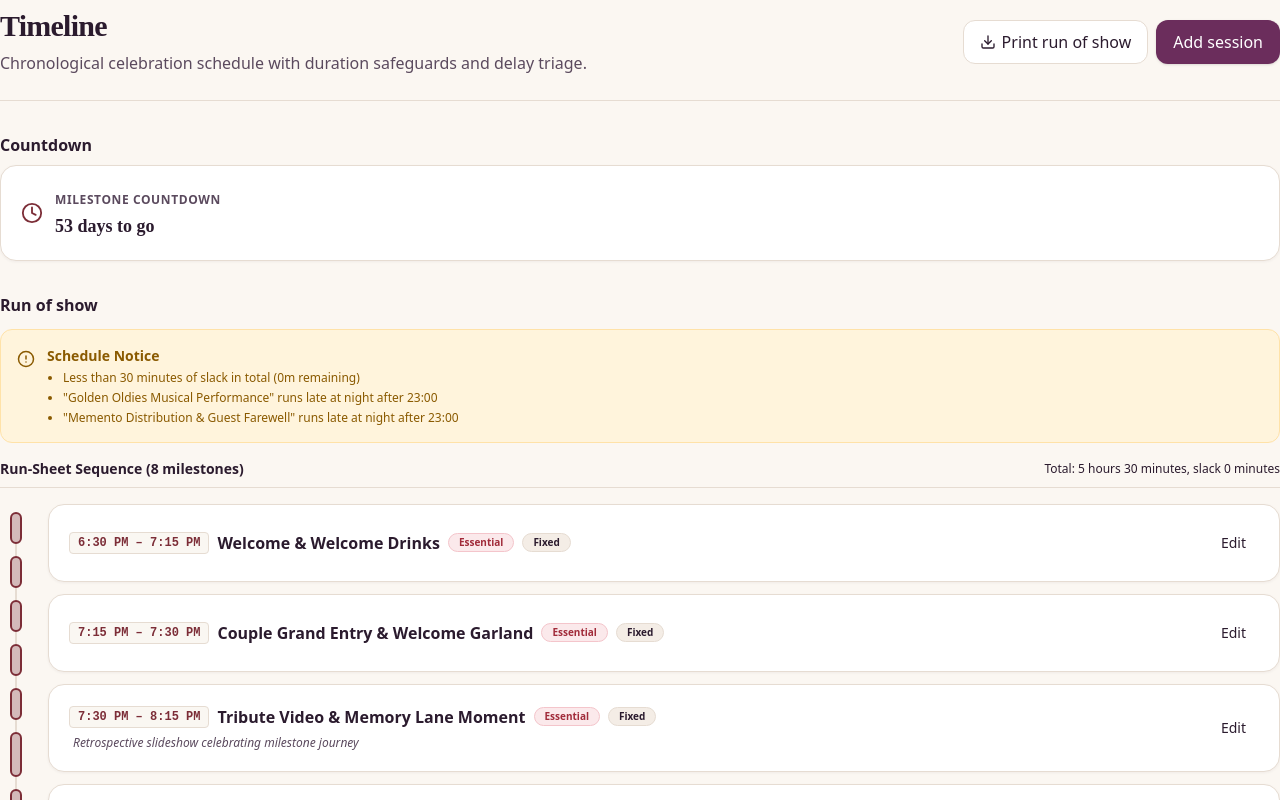
Test: UI: Timeline Page & Interactions (TASK 4) › rejects adding a slot at 23:30 for 60 minutes inline without saving
// Open Add session dialog
Click the button "Add session" at (1218, 42), box 1156,20 -> 1279,64
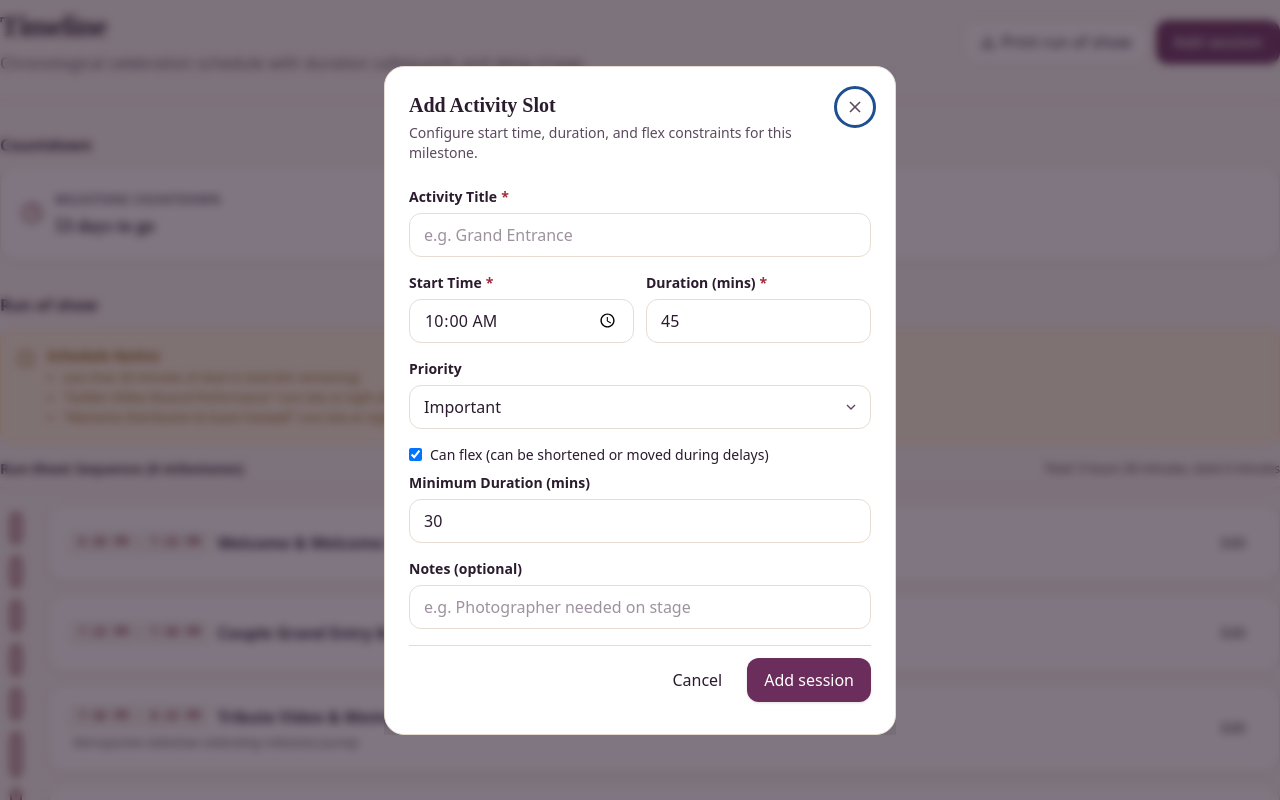
expect the dialog "Add Activity Slot" is shown: met, box 384,66 -> 896,734
// Fill in title
Type "Late Night Dance" into the field labelled "Activity Title *" at (640, 234), box 409,212 -> 871,256
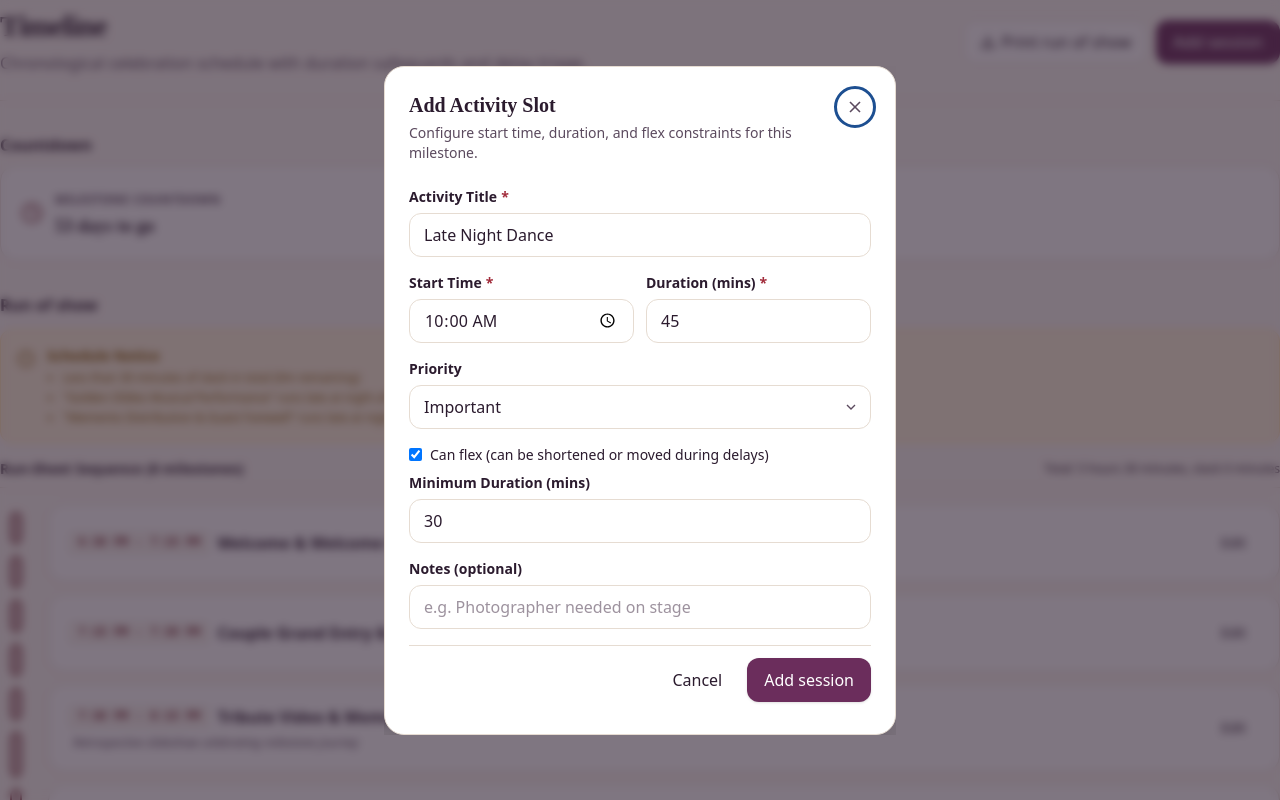
// Set time to 23:30
Replace the text in the time field named "Start Time" with "23:30" at (522, 320), box 409,298 -> 634,342
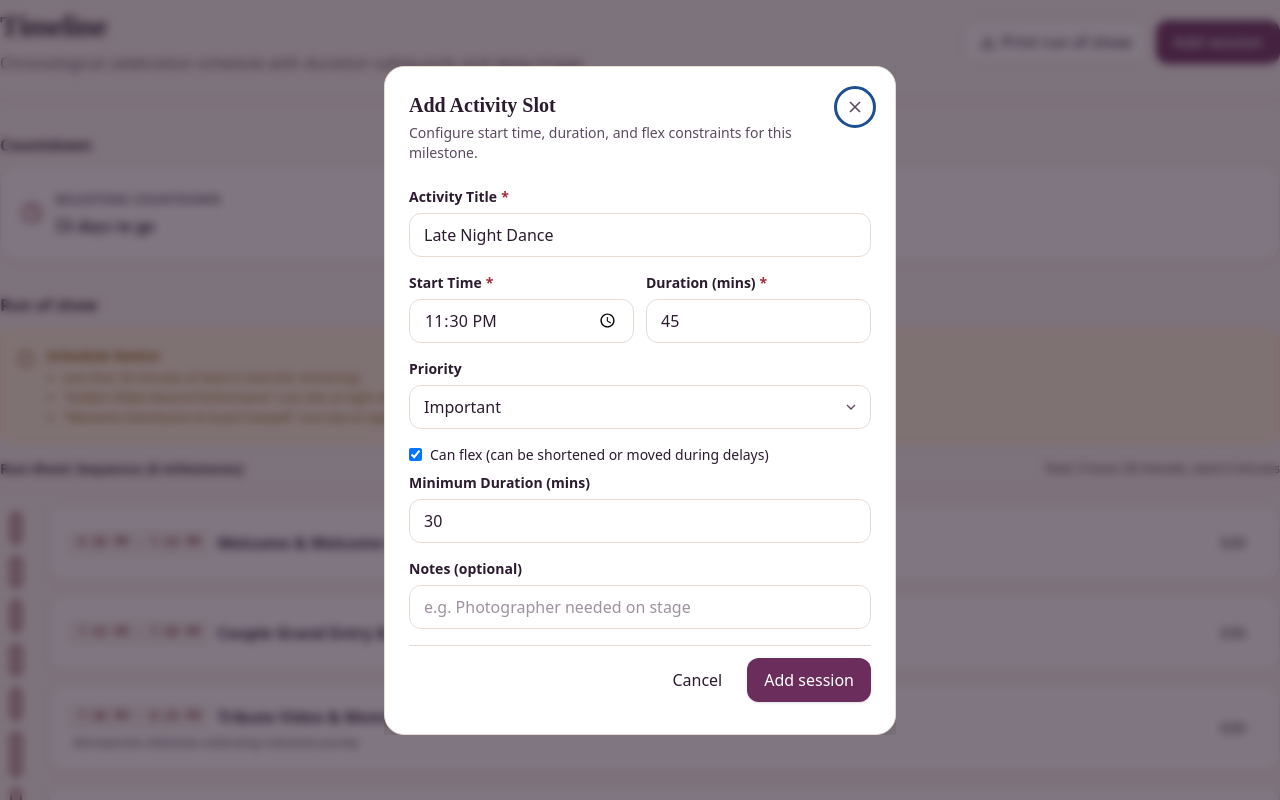
Replace the text in the number field labelled "Duration (mins) *" with "60" at (758, 320), box 646,298 -> 871,342
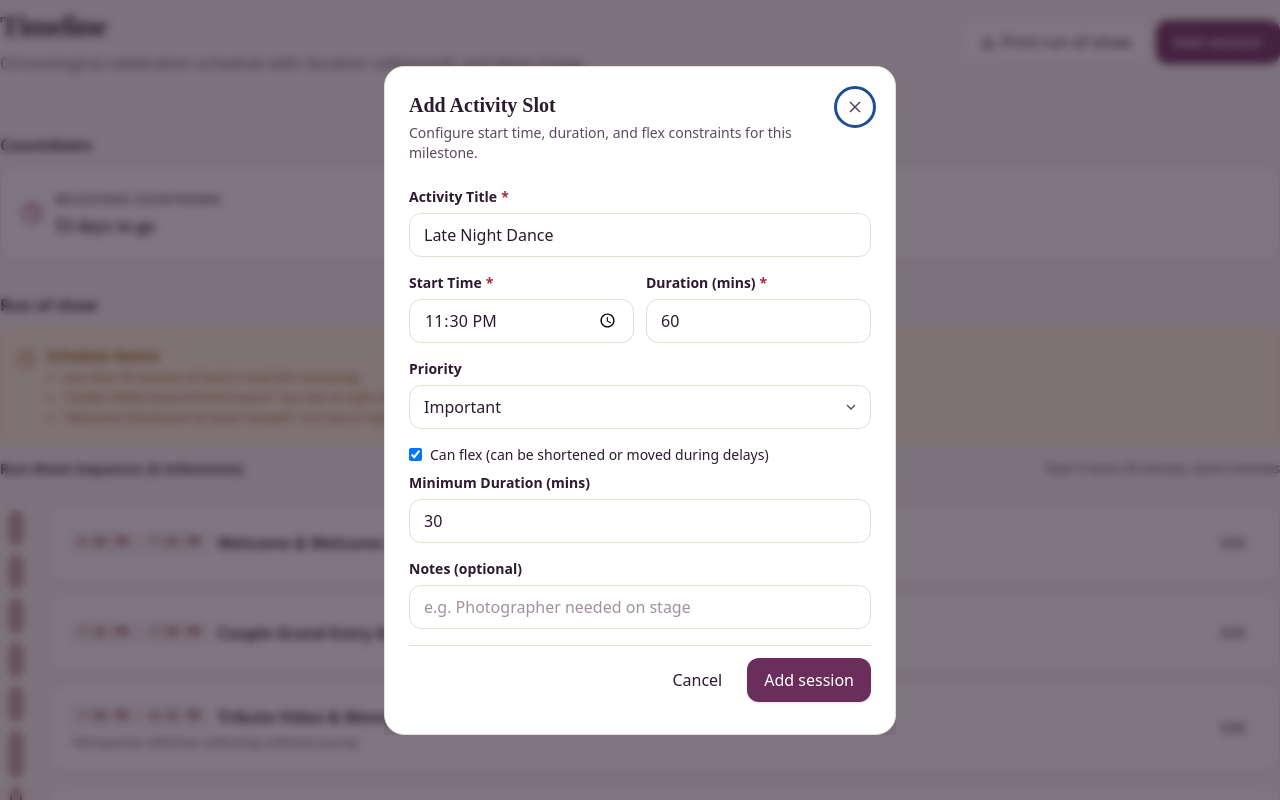
// Click submit inside the dialog (button 1)
Click the button "Add session" at (809, 680), box 747,658 -> 871,702
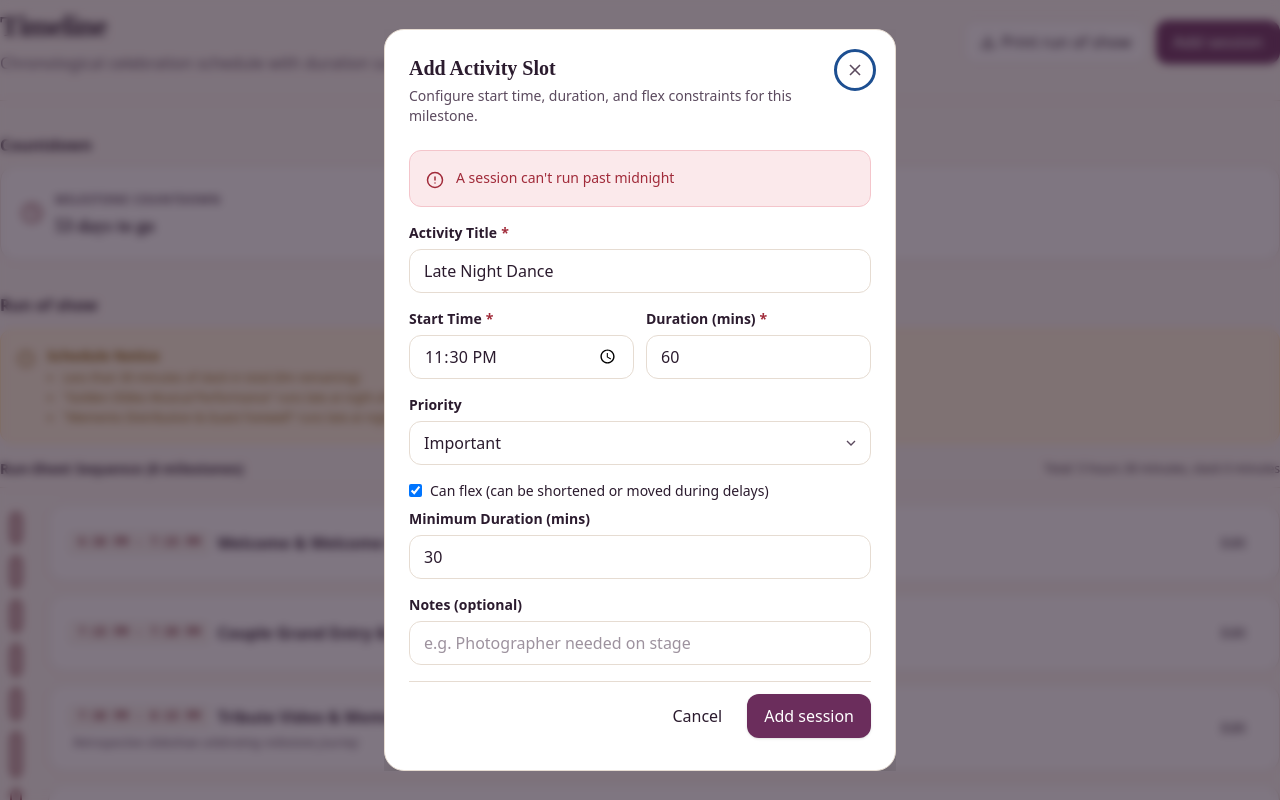
expect the text "A session can't run past midnight" is shown: met, box 456,168 -> 674,187
